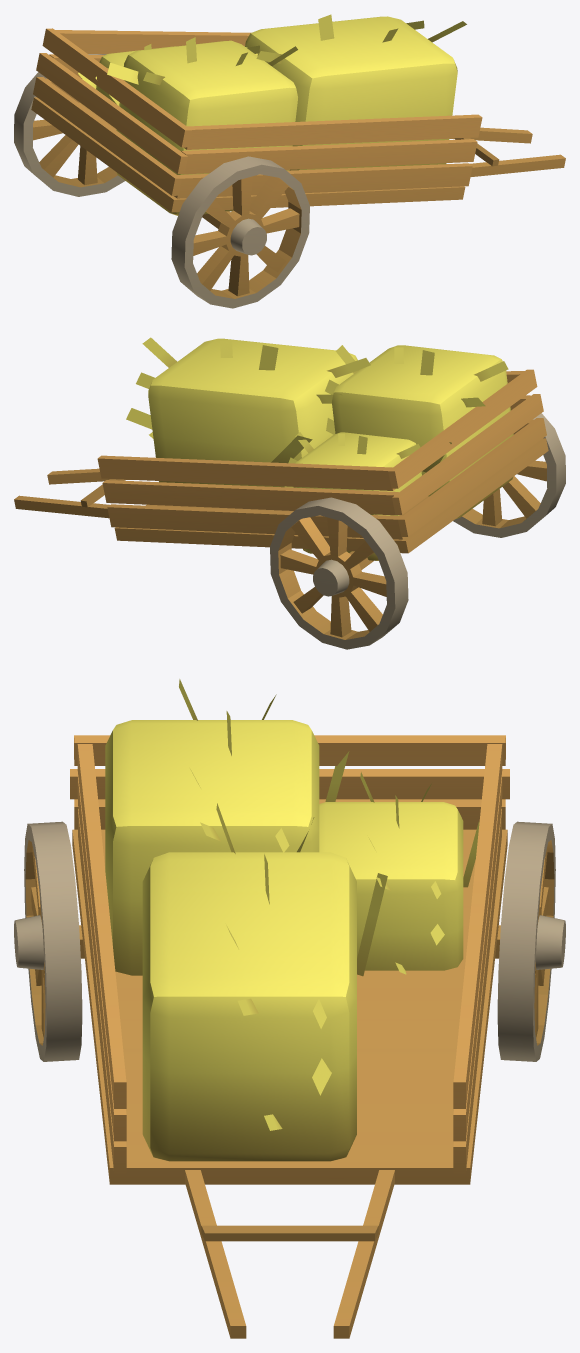
The model's file is Wheat+cart.fbx.
3 renders of one model, top to bottom at view 1: azimuth 30°, elevation 25°; view 2: azimuth 150°, elevation 25°; view 3: azimuth 270°, elevation 25°, orthographic. The views are drawn at different scales.
Visible parts, largest first — view 1: Wheat cart; view 2: Wheat cart; view 3: Wheat cart.
Boxes of the visible parts, box(x1,y1,x2,y2) form: Wheat cart: box(14, 14, 565, 308); Wheat cart: box(14, 337, 565, 649); Wheat cart: box(14, 679, 565, 1338).
Size of the model in its own units: 136 by 64 by 93.42.
